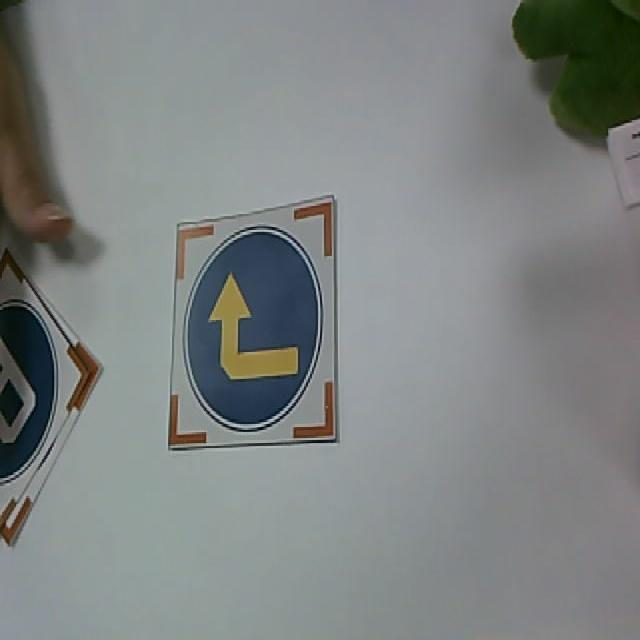parking: (0, 302, 58, 487)
turn: (185, 230, 320, 432)
